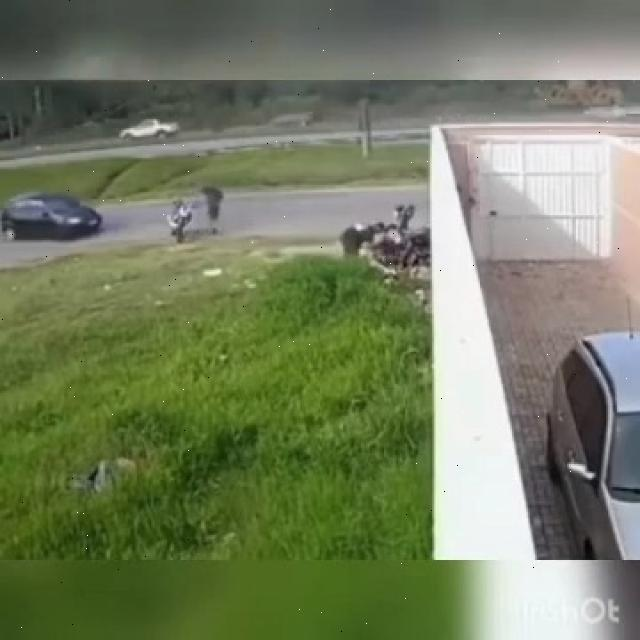accident: (365, 204, 438, 268)
